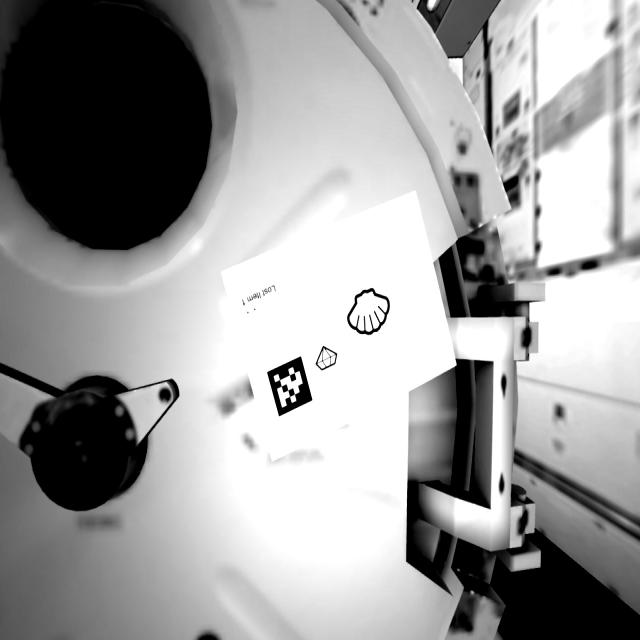diamond: (309, 340, 346, 382)
shell: (344, 281, 401, 347)
